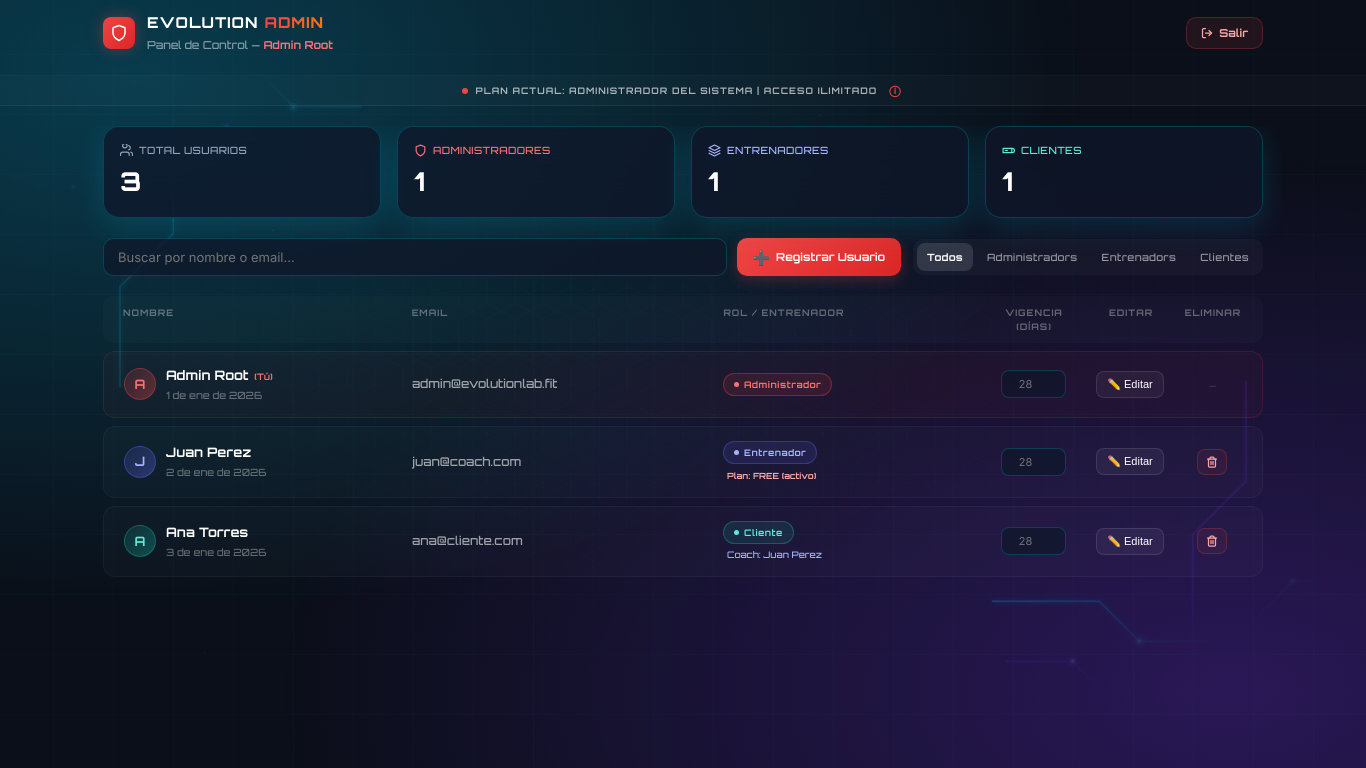
Test case: AdminDashboard — eliminar usuario › si el RPC falla, muestra un error y NO quita al usuario de la lista
The image size is (1366, 768).
Expected: the text "Juan Perez" is shown, [166,444,251,460]
Click the button titled "Eliminar usuario permanentemente" in the row of "activo".
click(1212, 462)  # box [1197,449,1227,475]
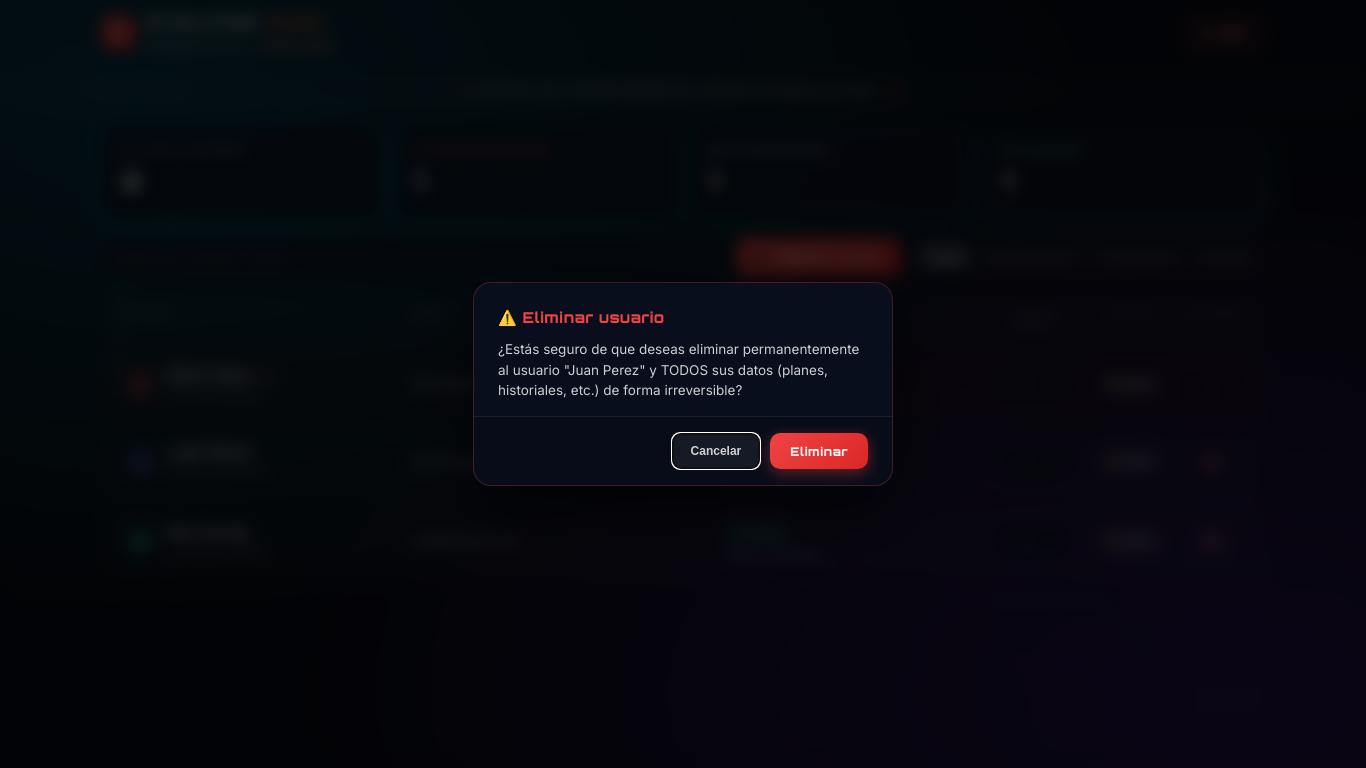
Click the button "Eliminar".
click(819, 451)  # box [770,433,868,469]
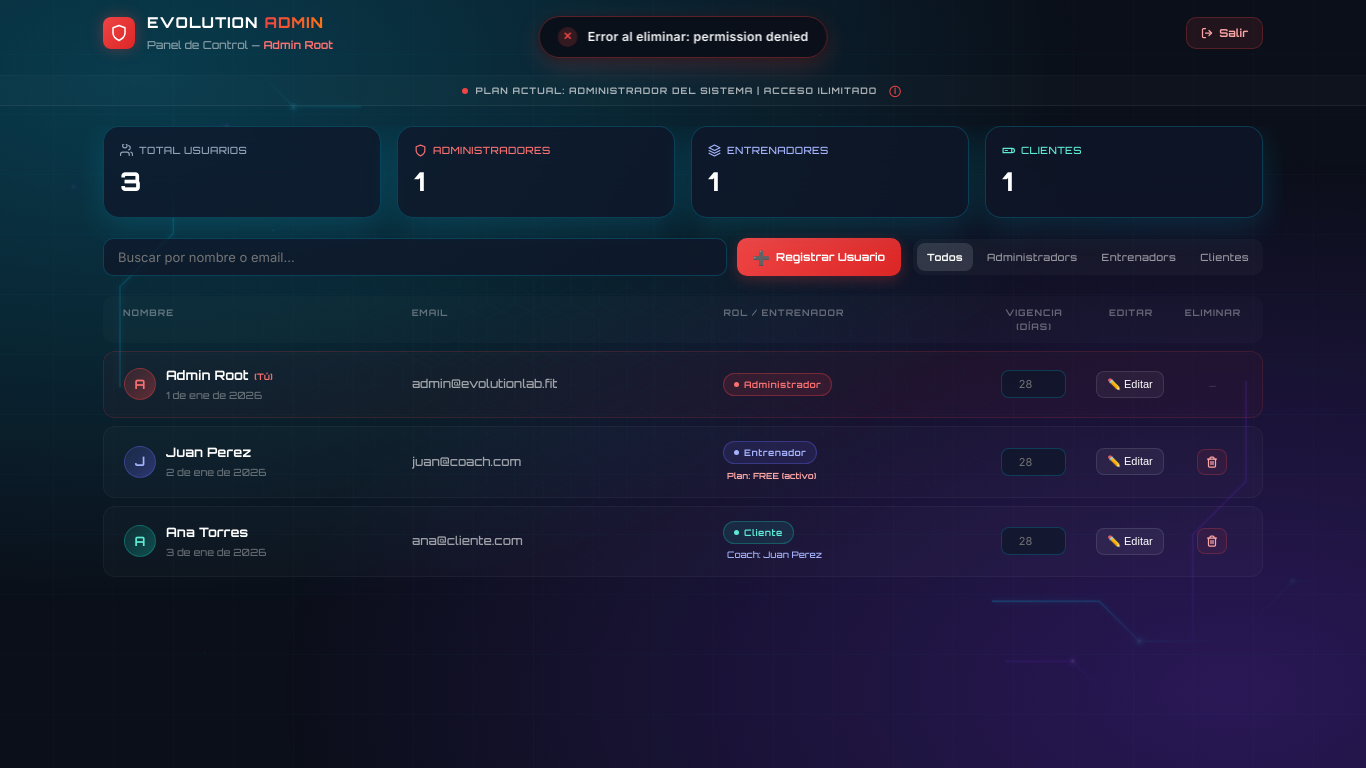
Expected: the text "Juan Perez" is shown, [166,444,251,460]
Now the text "Error al eliminar: permission denied" is shown, box [588,28,808,46]
